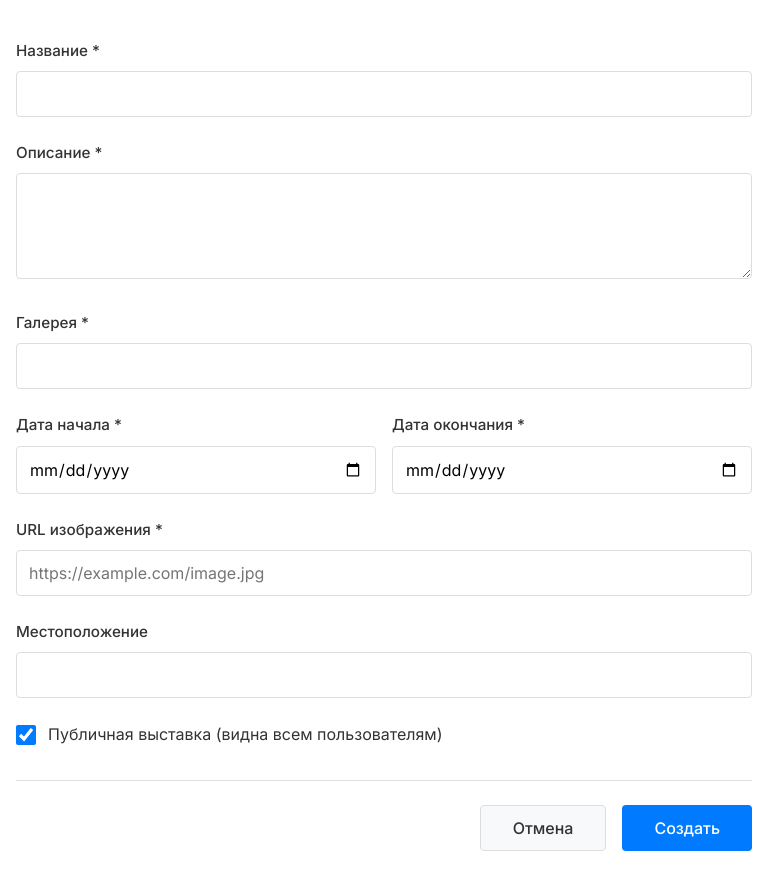
it: ExhibitionForm Component › validates required fields
(page scrolled)
Click the button "Создать": x=687, y=828 left=622, top=805, right=752, bottom=851
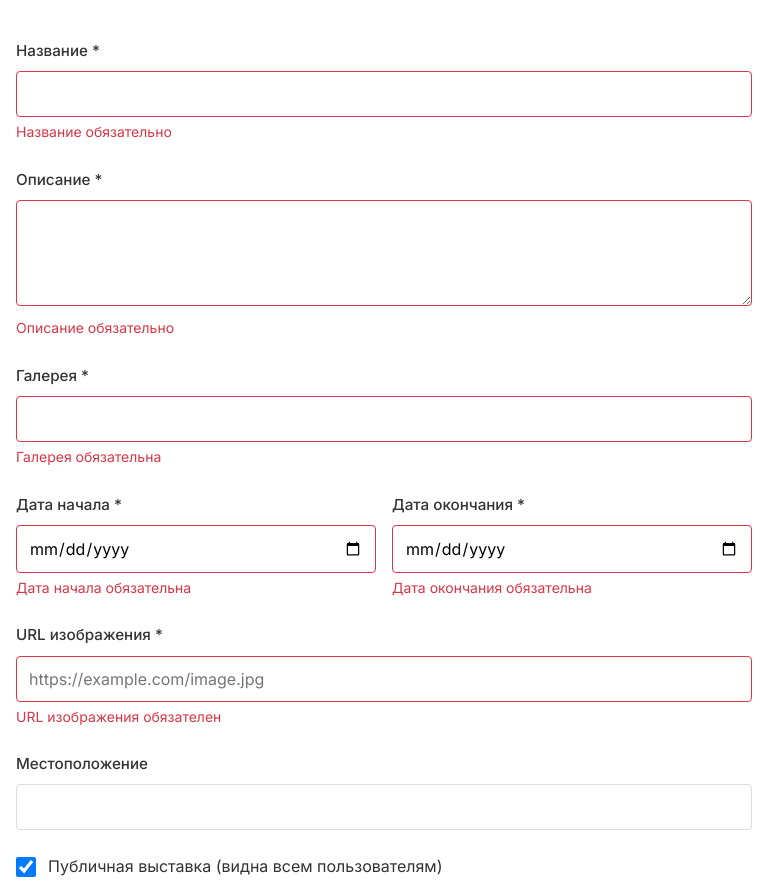
expect the text "Название обязательно" is shown: met, box left=16, top=123, right=172, bottom=140
expect the text "Описание обязательно" is shown: met, box left=16, top=319, right=174, bottom=336
expect the text "Галерея обязательна" is shown: met, box left=16, top=448, right=161, bottom=465
